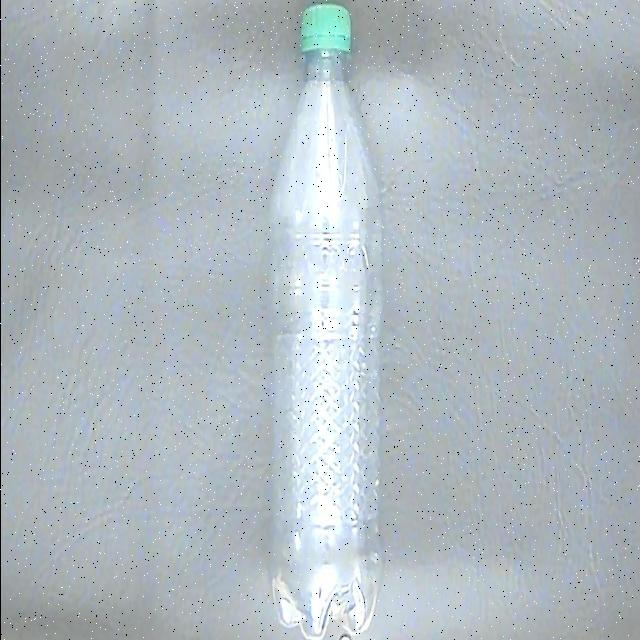plastic: (266, 9, 390, 636)
